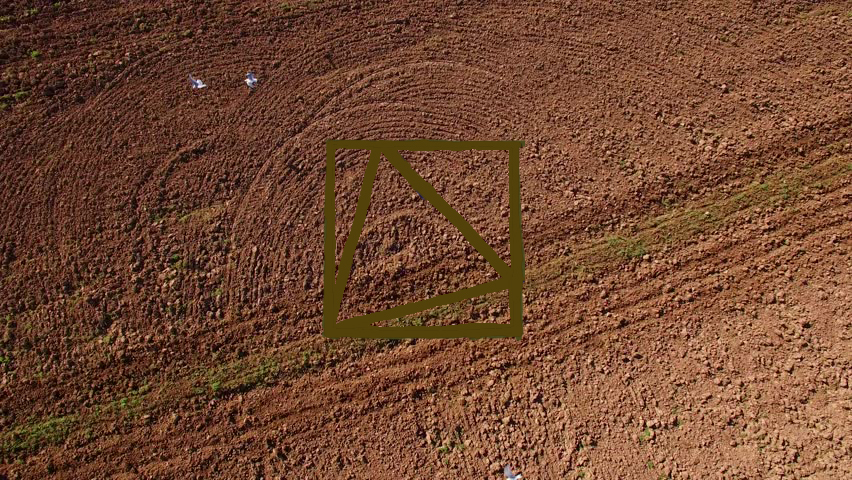marker: (322, 138, 526, 344)
